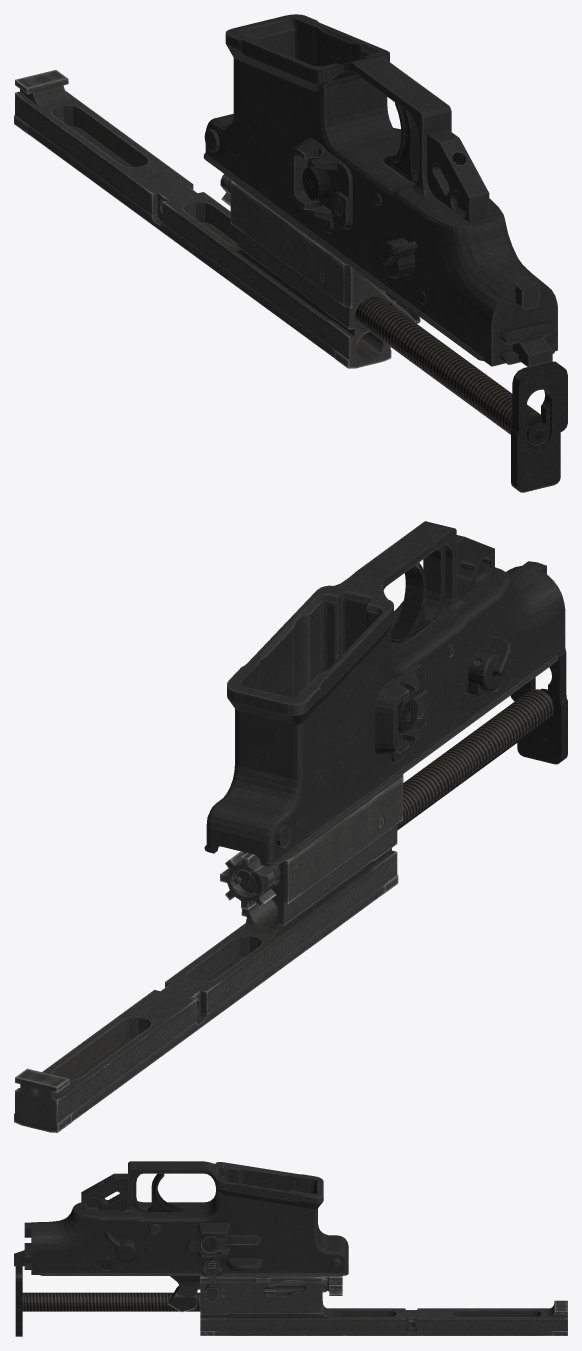
The picture shows the model from 3 angles, top to bottom: view 1: azimuth 30°, elevation 25°; view 2: azimuth 150°, elevation 25°; view 3: azimuth 270°, elevation 25°; orthographic projection. The views are drawn at different scales.
Parts seen in each view (by area): view 1: TW_6184055050224f204c1da540_PZ_Import; view 2: TW_6184055050224f204c1da540_PZ_Import; view 3: TW_6184055050224f204c1da540_PZ_Import.
Boxes of the visible parts, left/top/right/bottom form: TW_6184055050224f204c1da540_PZ_Import: left=14, top=14, right=567, bottom=492; TW_6184055050224f204c1da540_PZ_Import: left=14, top=521, right=567, bottom=1132; TW_6184055050224f204c1da540_PZ_Import: left=14, top=1161, right=567, bottom=1336.
Bounding box in the file's own units: 0.0287 × 0.22 × 0.0731.
Materials: 1 (1 with a texture image).
